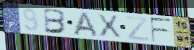9: (22, 7, 40, 32)
A: (72, 11, 100, 39)
B: (43, 8, 68, 35)
F: (149, 17, 173, 44)
X: (95, 13, 124, 39)
Z: (125, 15, 150, 42)
